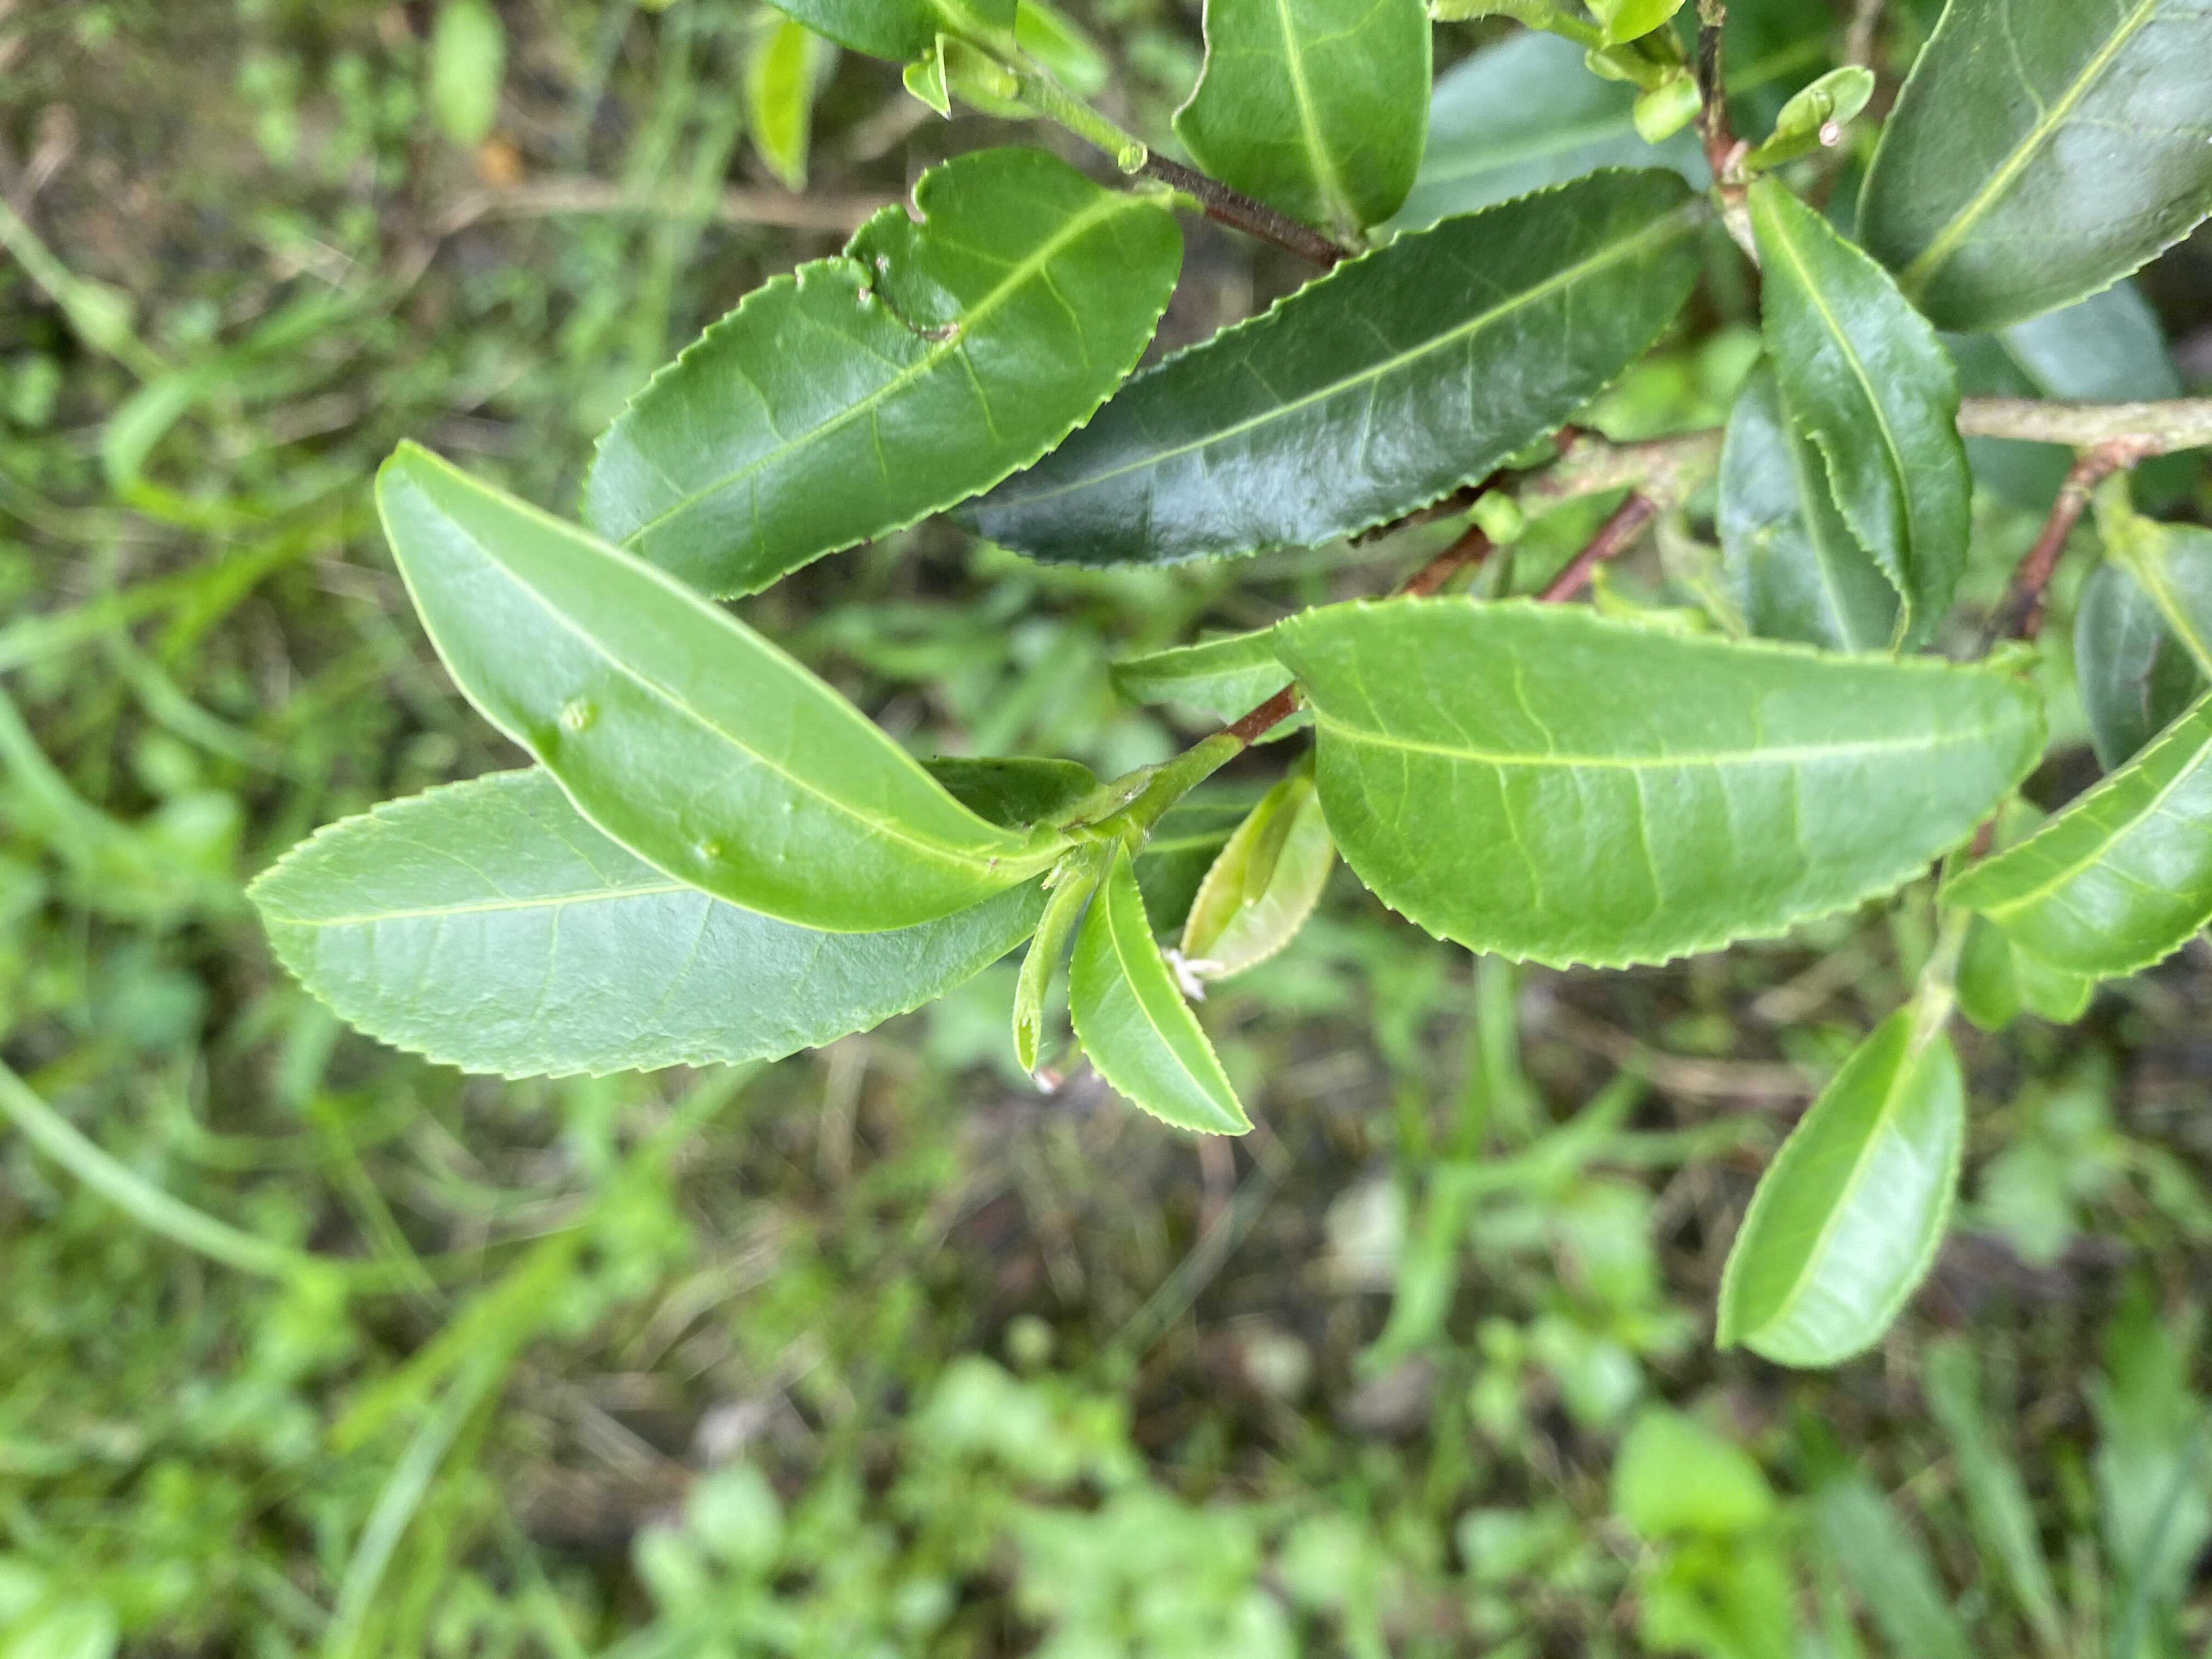chihuo_low: (1160, 3, 1433, 232)
healthy: (374, 434, 1024, 929), (1266, 591, 2047, 976), (242, 765, 1113, 1079), (1111, 164, 1723, 572), (1857, 2, 2210, 340), (1749, 176, 1980, 655), (1710, 1002, 1959, 1377), (1937, 694, 2212, 983), (1069, 840, 1251, 1138)
